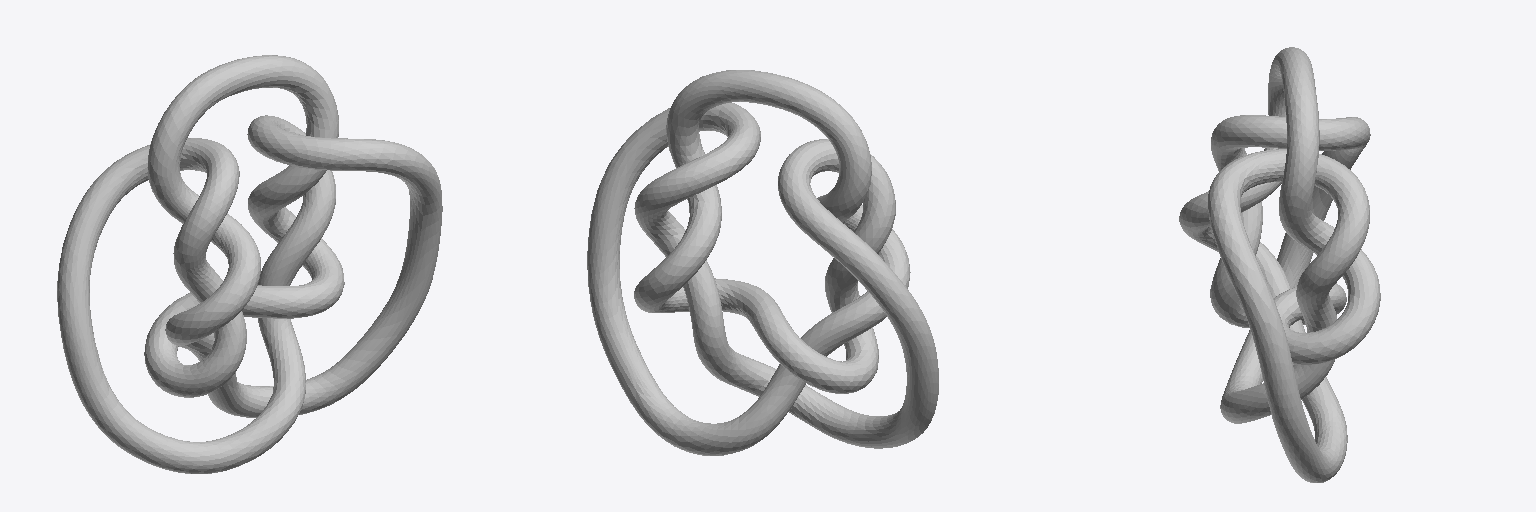
File: knot.obj
3 views of the same model, side by side, from view 1: azimuth 30°, elevation 25°; view 2: azimuth 150°, elevation 25°; view 3: azimuth 270°, elevation 25° (orthographic).
Size of the model in its own units: 1.98 by 2 by 0.9603.